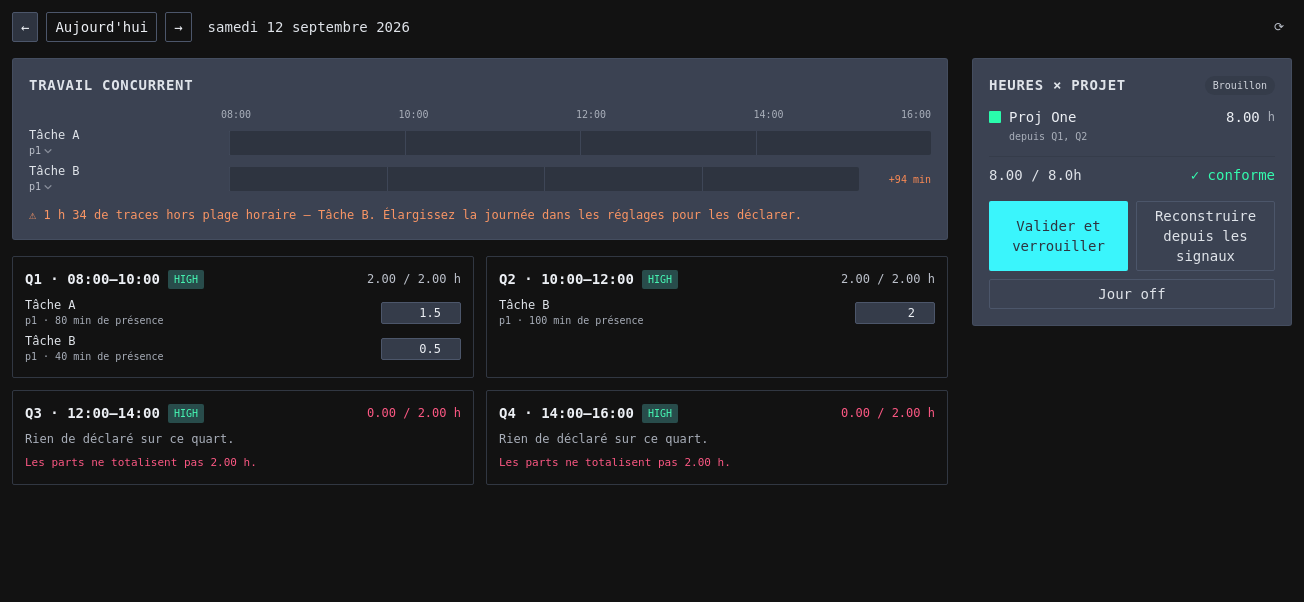
Scenario: TimesheetPage › hides the banner and does not reconstruct when "Annuler" is clicked
Click the button "Reconstruire depuis les signaux": [1206, 236] box [1136, 201, 1275, 271]
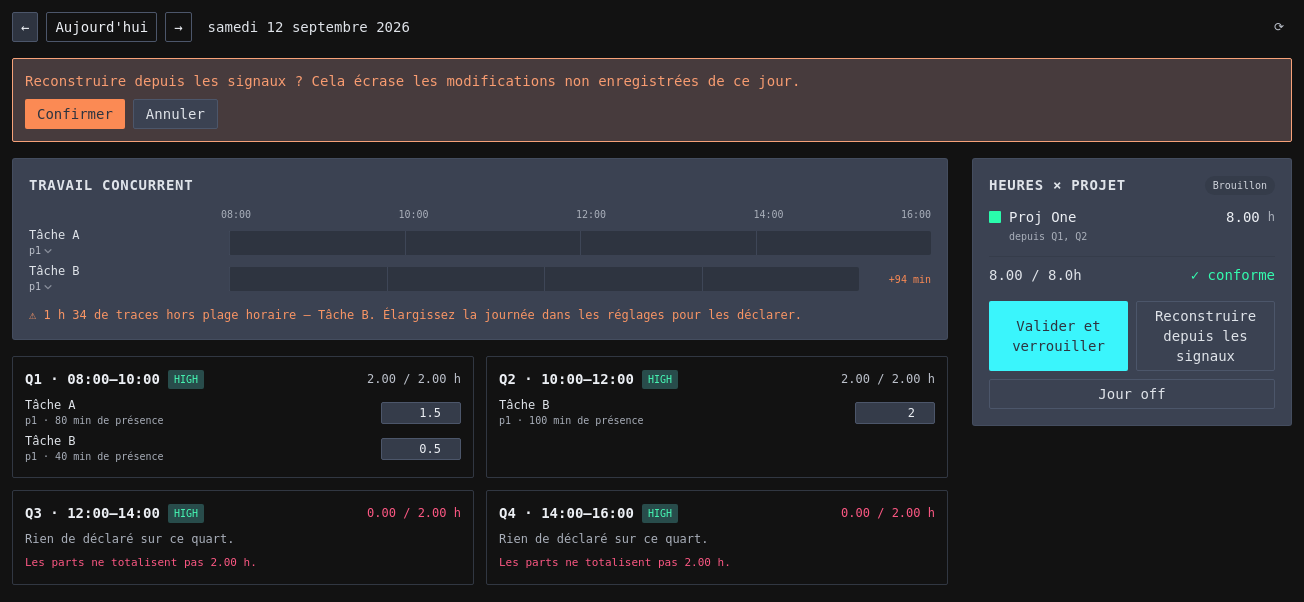
Click the button "Annuler": [175, 114] box [133, 99, 218, 129]
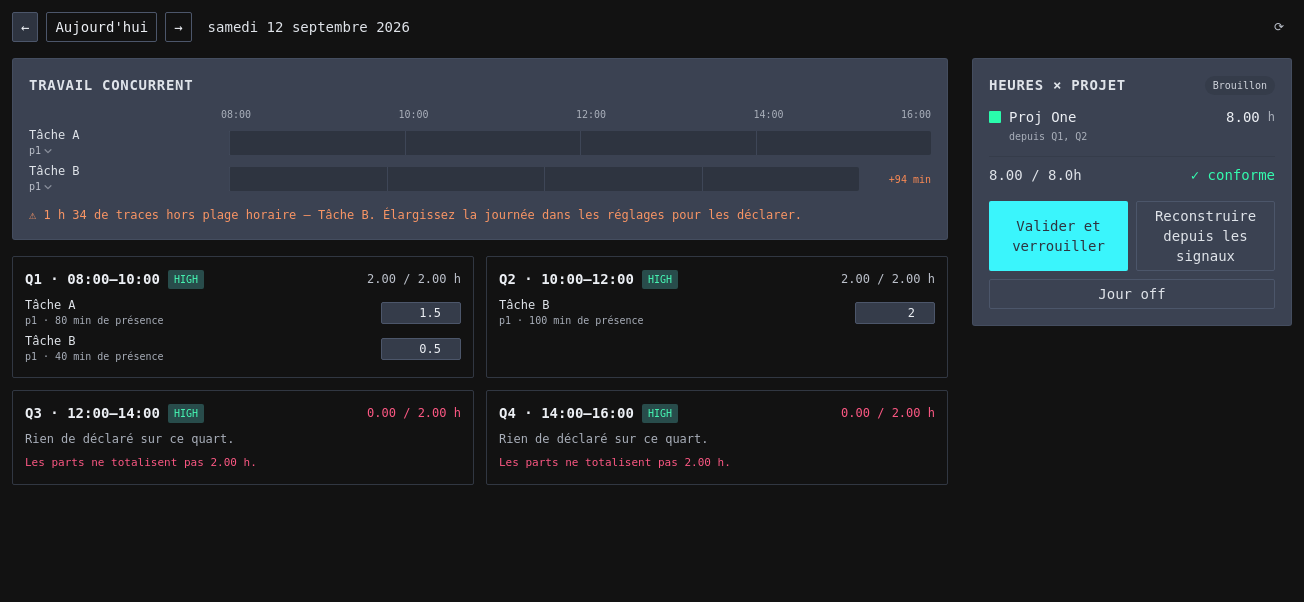
Expected: the text "Reconstruire depuis les signaux ?" is gone
